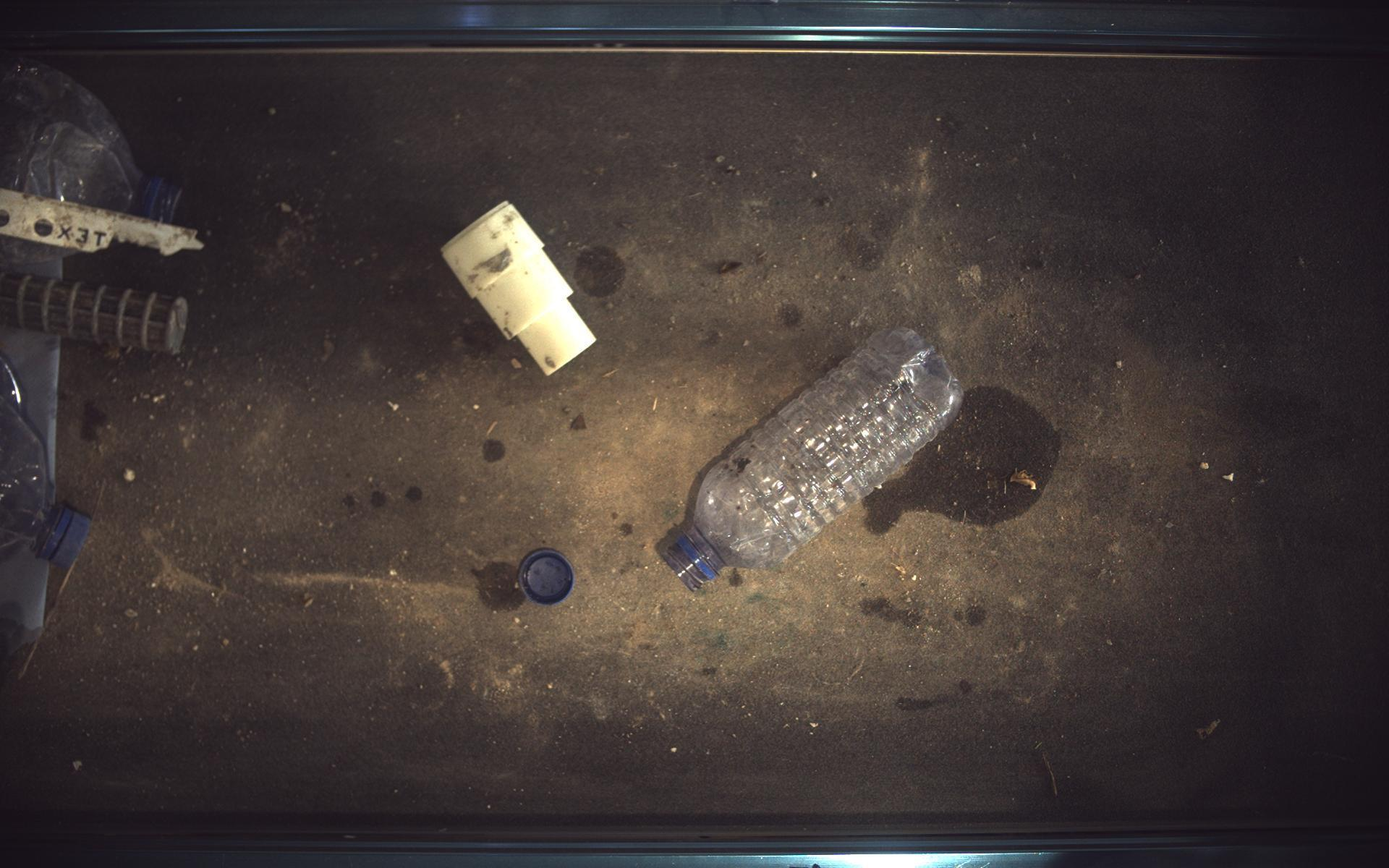general_w: (665, 328, 964, 592), (1, 52, 179, 221), (1, 354, 89, 569), (518, 549, 575, 606), (1, 236, 64, 275)
plastic: (442, 201, 596, 374), (1, 273, 187, 354), (1, 188, 203, 255)
